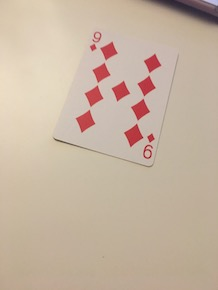NineOfDiamonds: (49, 24, 182, 168)
